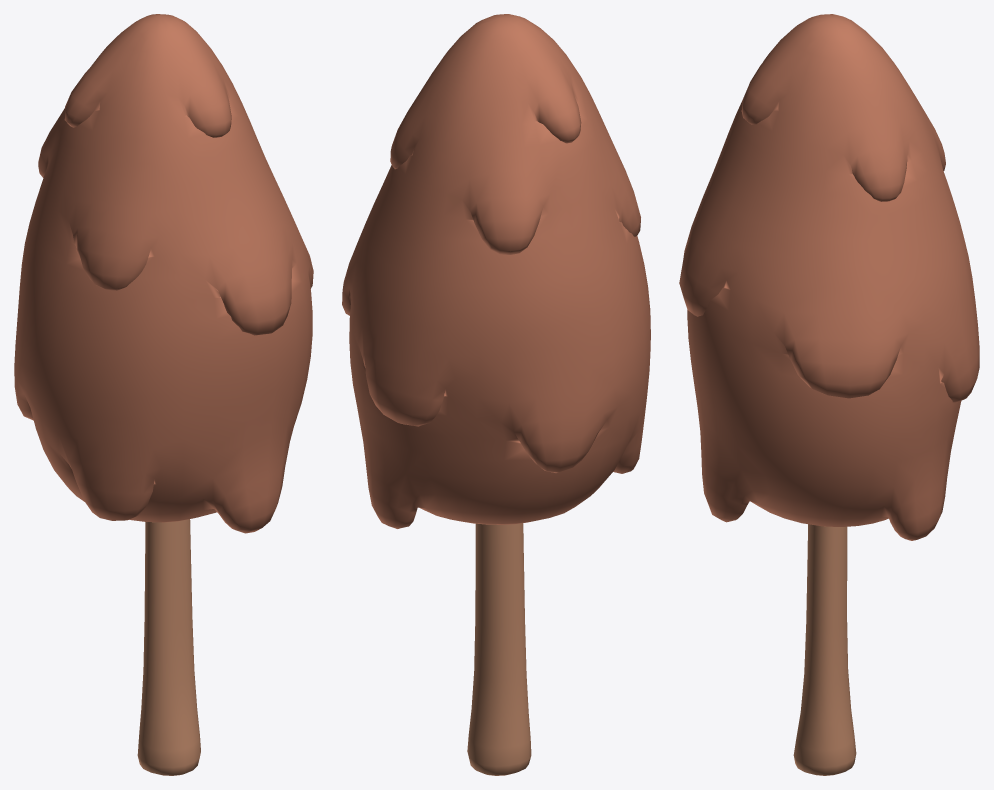
The model's file is Tree_F_01.fbx.
3 views of the same model, side by side, from view 1: azimuth 30°, elevation 25°; view 2: azimuth 150°, elevation 25°; view 3: azimuth 270°, elevation 25° (orthographic).
Visible parts, largest first — view 1: Tree_F_01_LOD0; view 2: Tree_F_01_LOD0; view 3: Tree_F_01_LOD0.
Part boxes in pixels (x1,y1,x2,y2): Tree_F_01_LOD0: [14, 14, 313, 775]; Tree_F_01_LOD0: [342, 14, 650, 775]; Tree_F_01_LOD0: [679, 14, 979, 775].
Size of what is drawn, in the model's own units: 611 by 1616 by 590.
